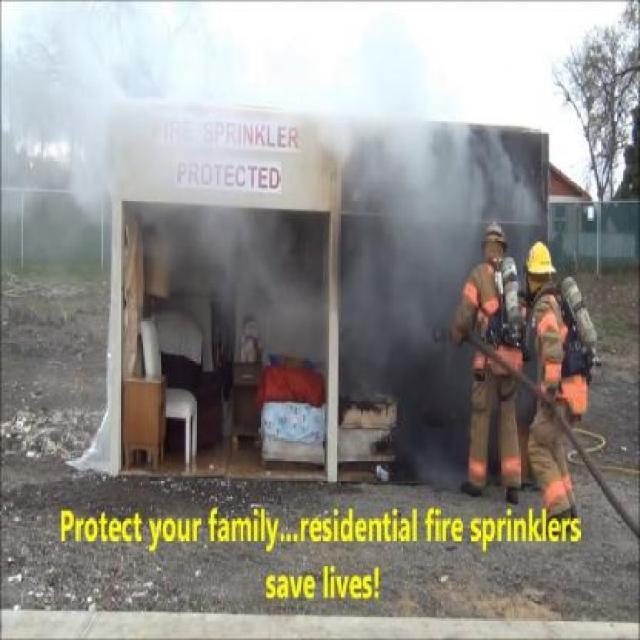smoke: (41, 29, 594, 488)
